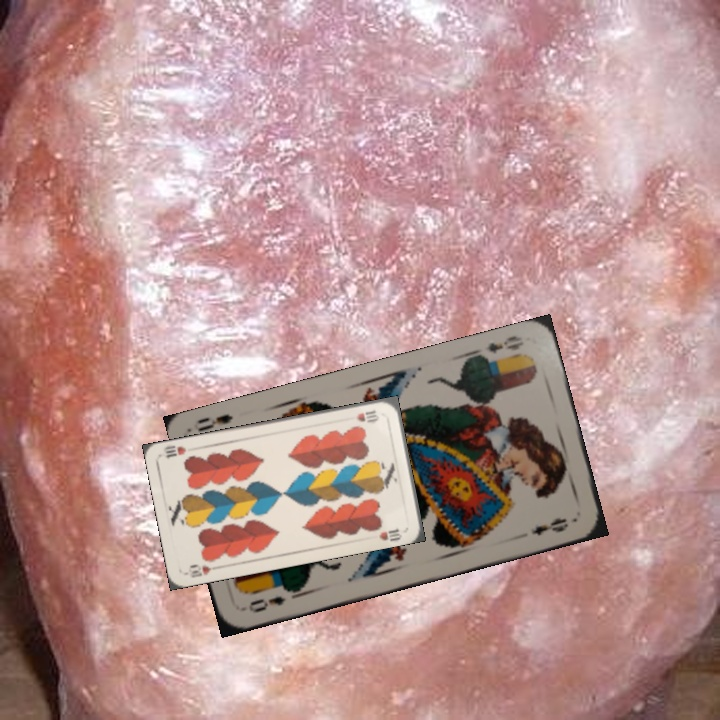EO: (471, 331, 527, 365), (244, 592, 288, 616)
H10: (185, 560, 214, 580), (352, 406, 381, 424)
